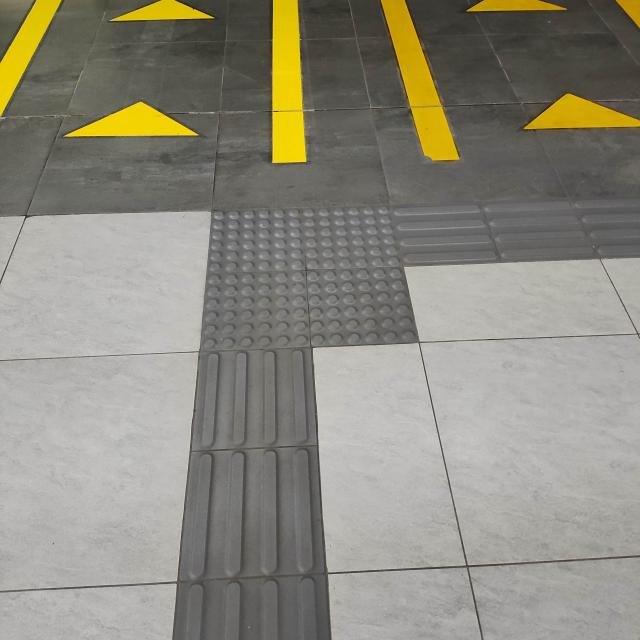kanan: (159, 184, 568, 366)
